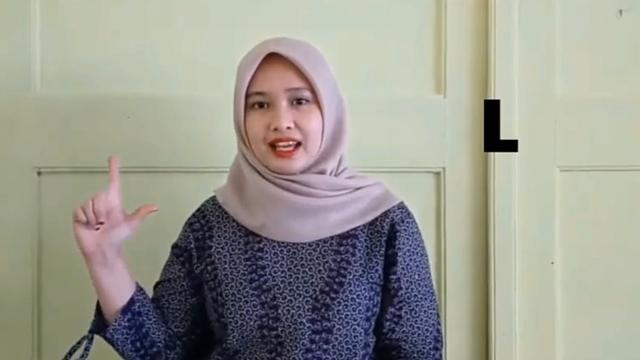L: (68, 152, 160, 260)
